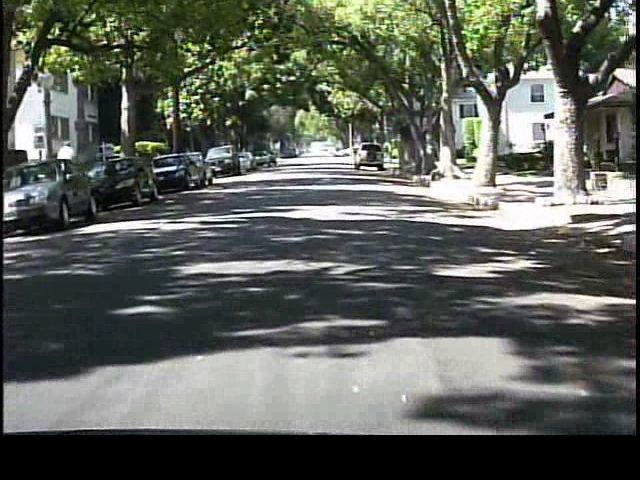person: (56, 140, 83, 200)
